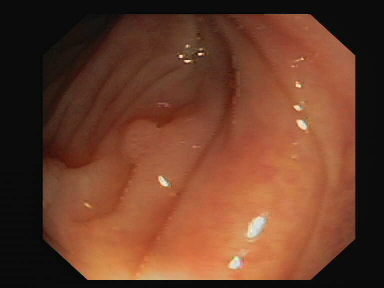polyp: (122, 102, 174, 168)
